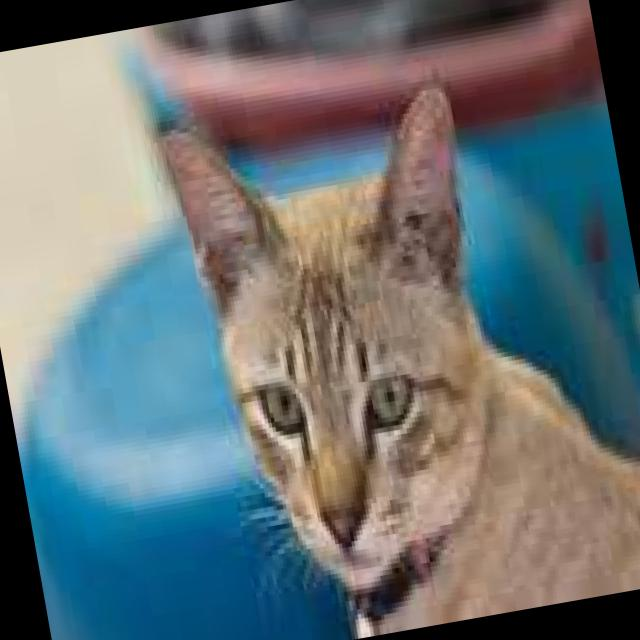cat: (141, 50, 640, 640)
